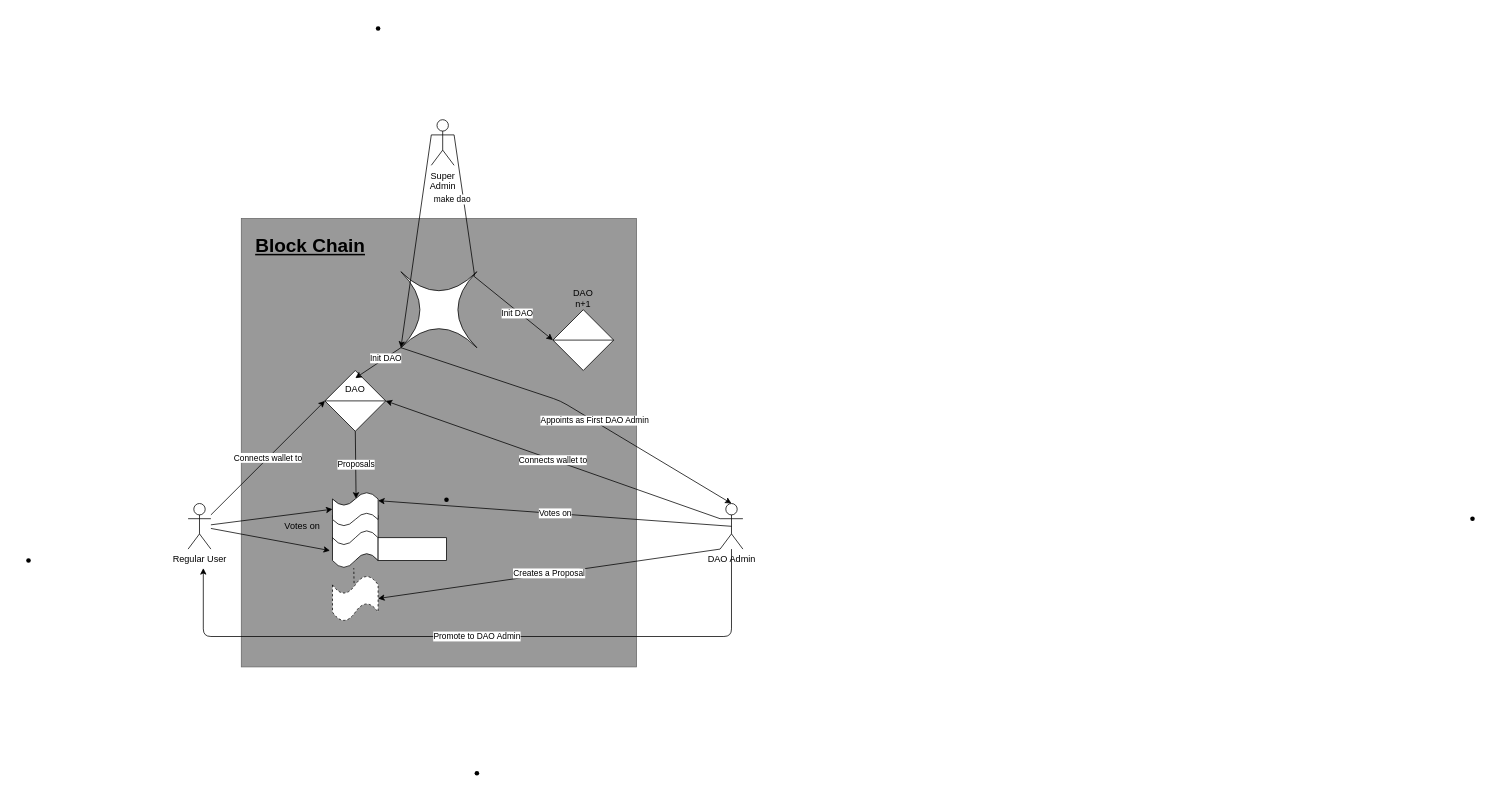
Image size: 1501x802. Some labels were removed from this diagram. The shapes that lost their labels are listed below. From the top down, each one's box as (x1, y1, x2, y2) in pixels, then its label:
(400, 271, 477, 348): DAO Factory
(377, 537, 446, 560): proposal type and data
